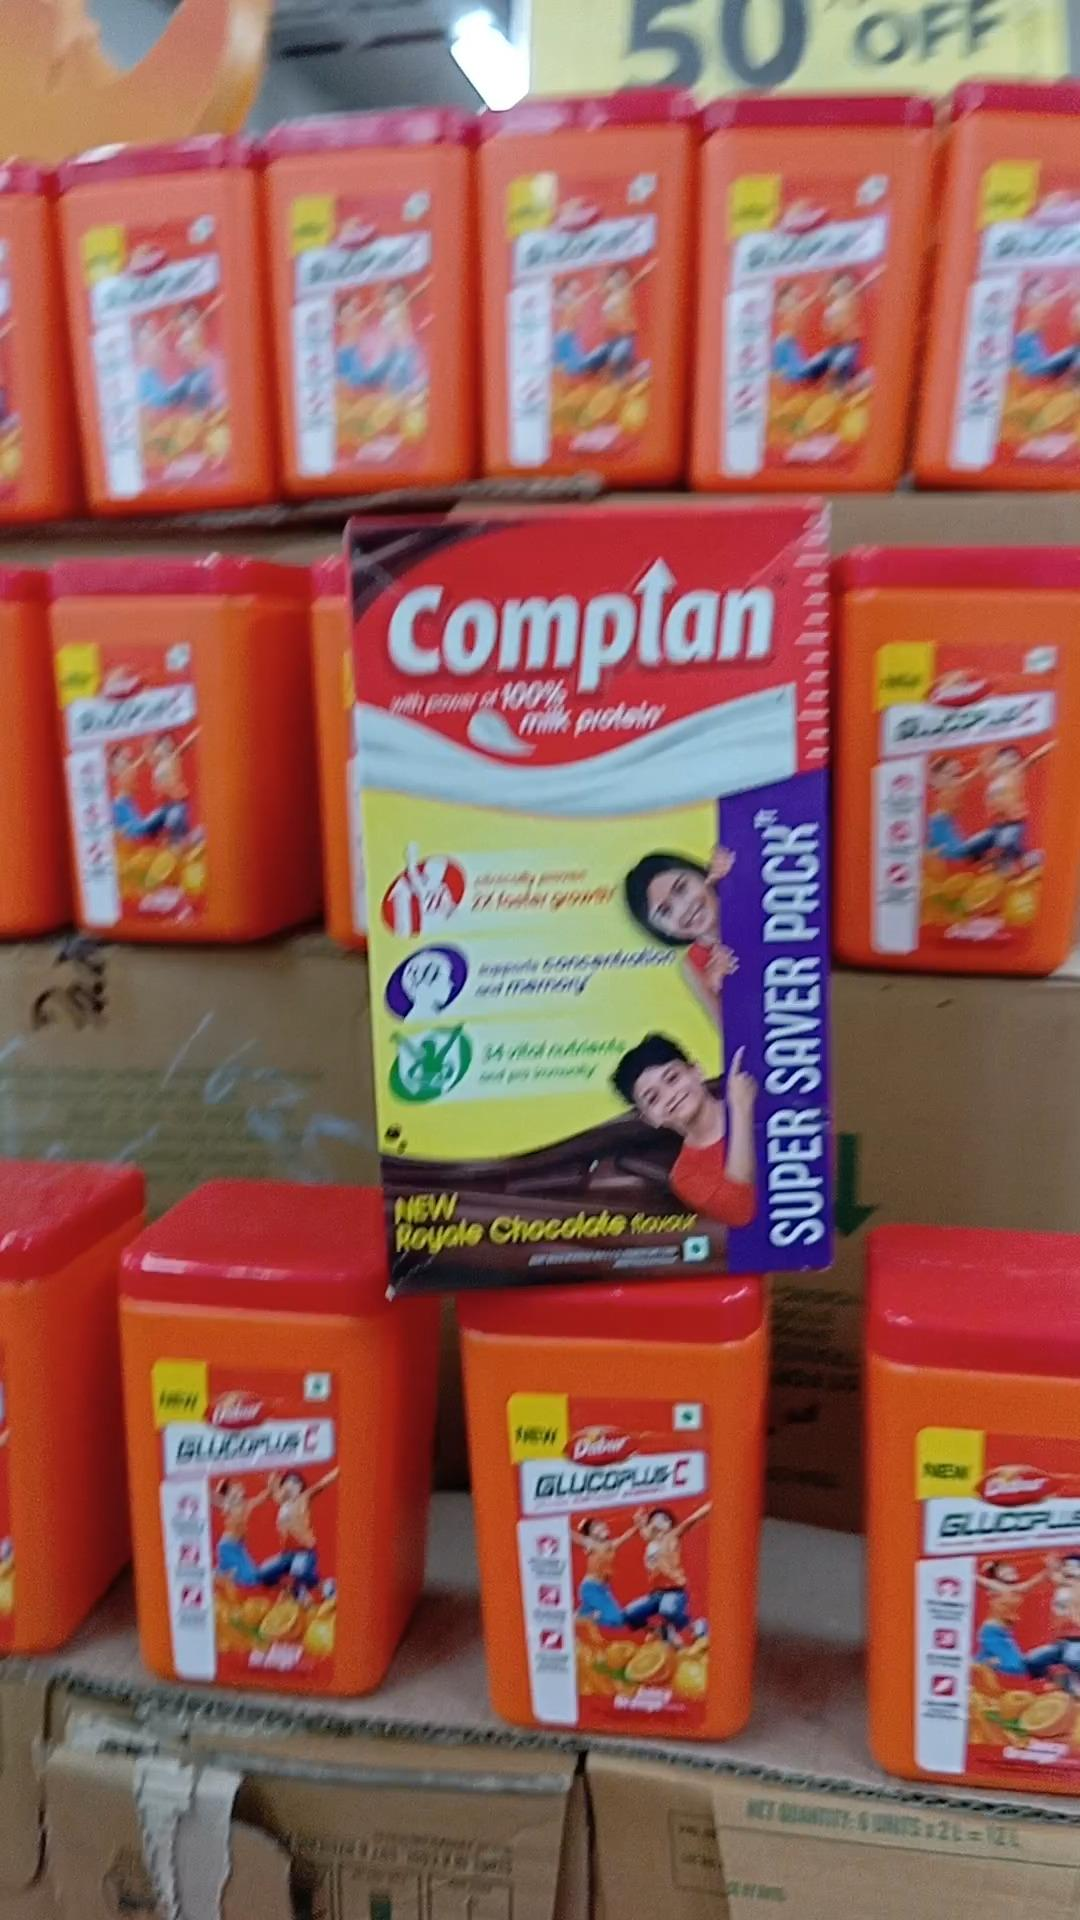COMPLAN_CHOCOLATE_1_KG_PACK: (347, 512, 832, 1275)
